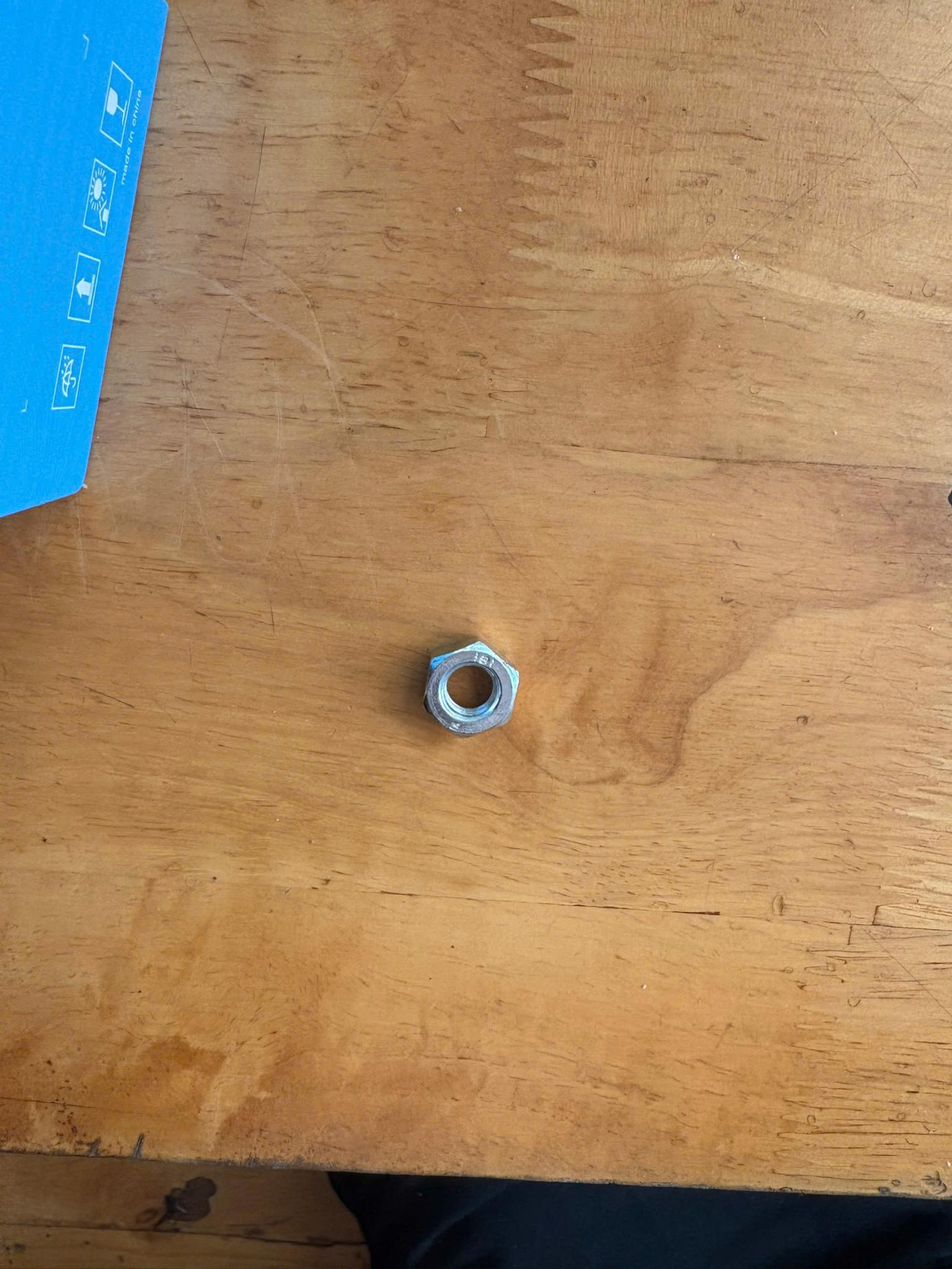nut: (416, 647, 539, 736)
